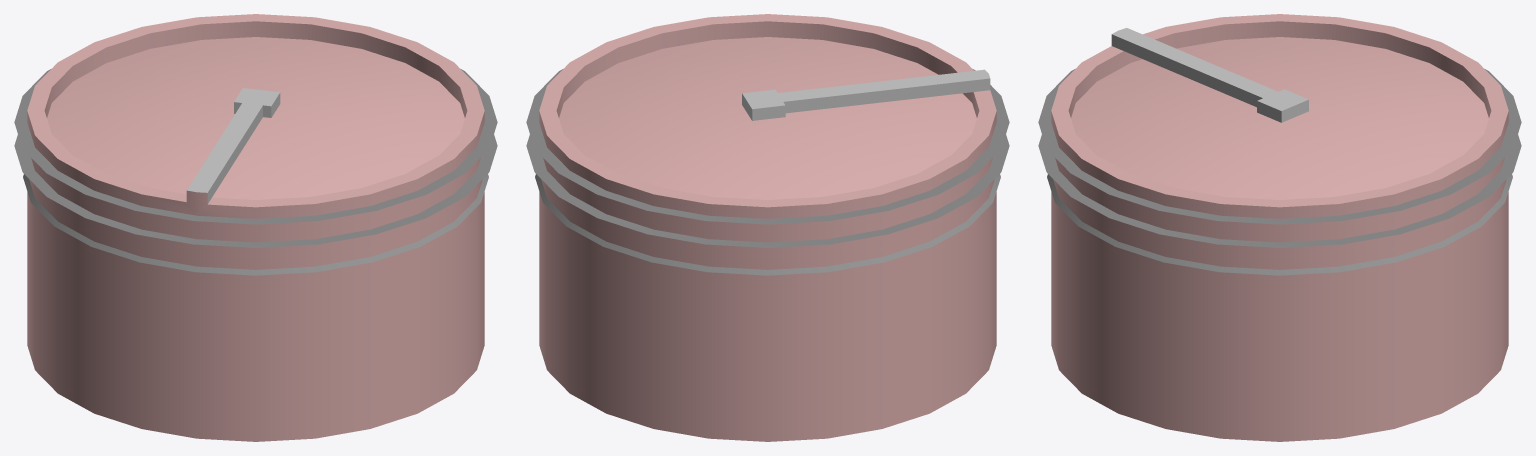
Rendered from building (7).fbx.
3 views of the same model, side by side, from view 1: azimuth 30°, elevation 25°; view 2: azimuth 150°, elevation 25°; view 3: azimuth 270°, elevation 25° (orthographic).
Parts seen in each view (by area): view 1: Group1; view 2: Group1; view 3: Group1.
Part boxes in pixels (x1,y1,x2,y2): Group1: (14, 14, 497, 441); Group1: (526, 14, 1009, 441); Group1: (1038, 14, 1521, 441).
Bounding box in the file's own units: 112 × 63 × 112.
